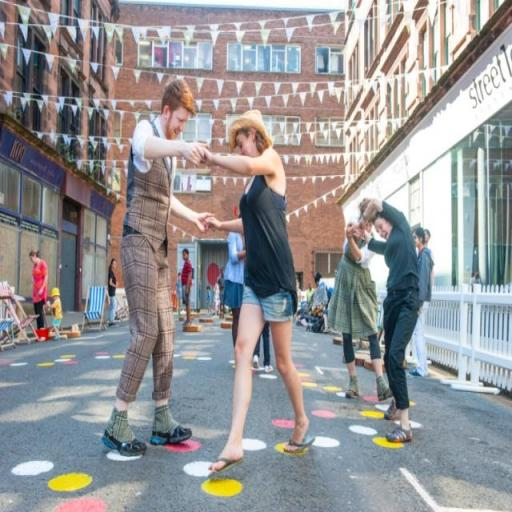person: (207, 105, 314, 483), (102, 80, 206, 457), (348, 196, 420, 448), (334, 193, 394, 403), (411, 226, 435, 379), (29, 248, 47, 344), (177, 249, 195, 328), (107, 255, 122, 329), (48, 290, 65, 343), (175, 273, 186, 319), (205, 286, 215, 316)
